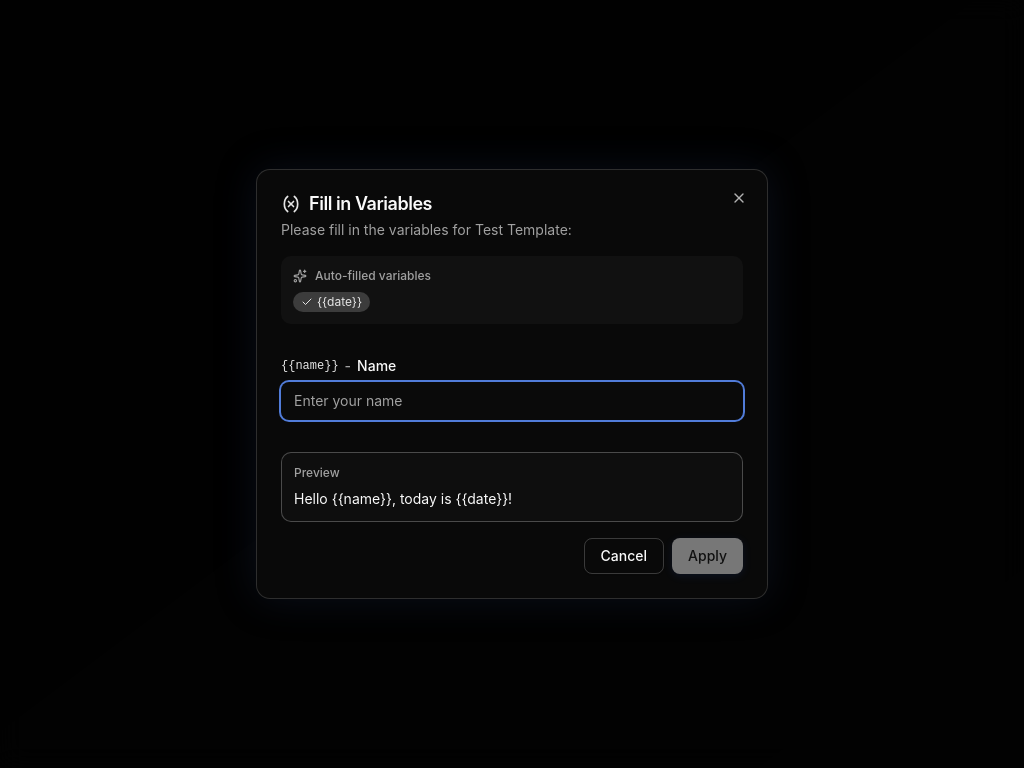
Scenario: VariableInputDialog › with user variables › should enable apply button when required field filled
Type "John" into the field labelled "{{name}} - Name" at point(512, 401), box [281, 382, 743, 420]
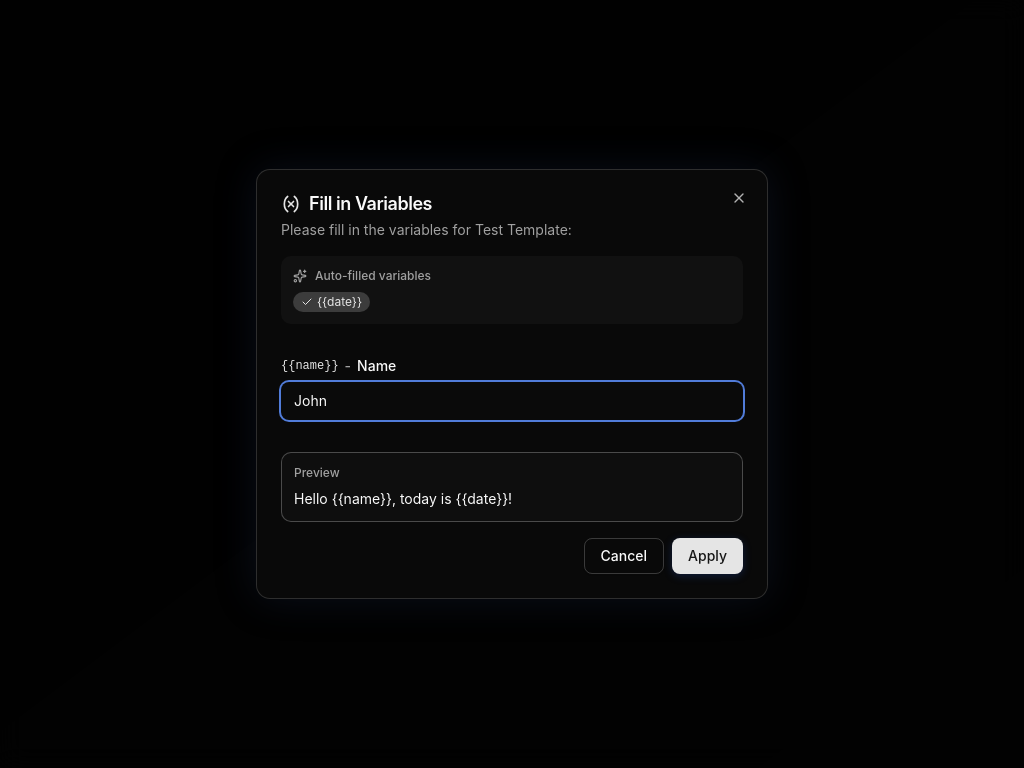
Result: the button "Apply" is enabled at [672, 538, 743, 574]
